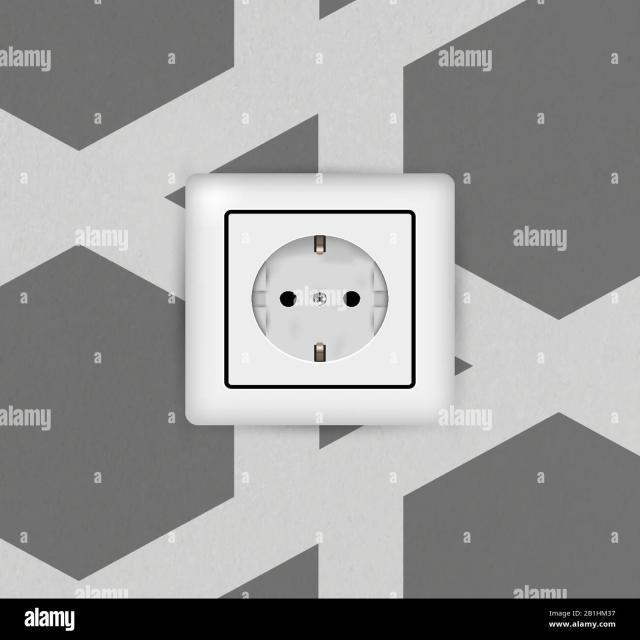typeb: (170, 167, 471, 432)
